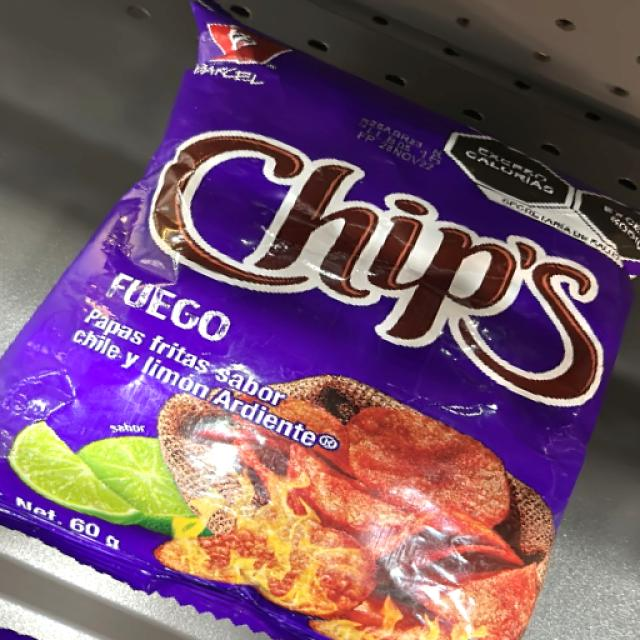chipsFuego: (107, 46, 554, 628)
